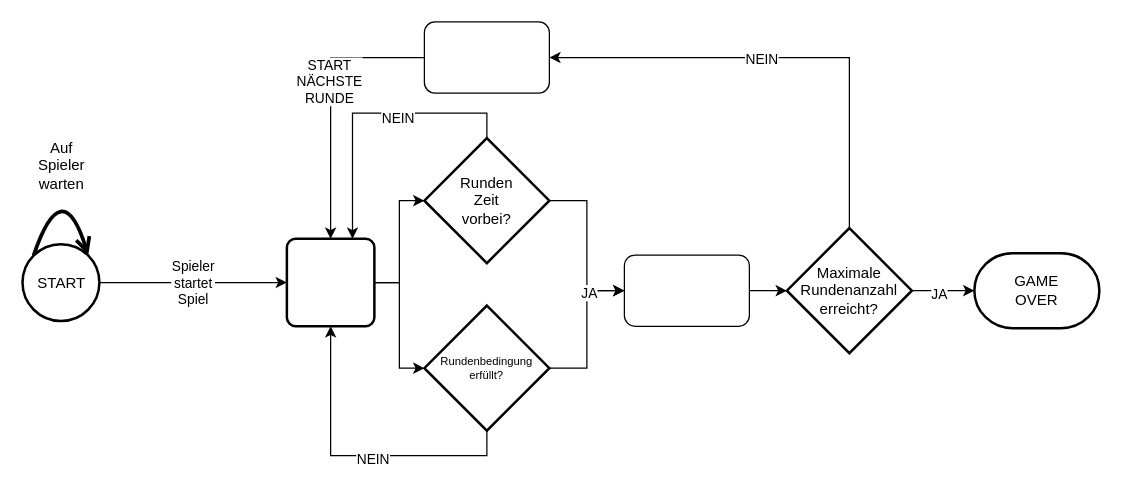
This 1123x489 diagram has some shape labels left out. Each missing label, with the centre of its shape:
"Aktuelle Runde X + 1" goes at (486,57).
"Runde X läuft" goes at (330,282).
"Werte Runde aus" goes at (686,290).
